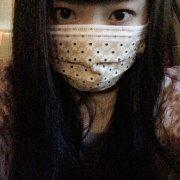OK: (47, 2, 136, 91)
